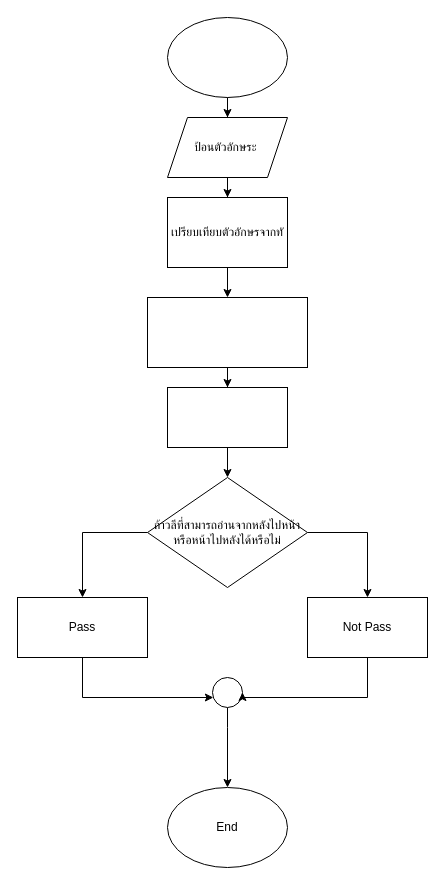
Image size: 445x885. Some labels were removed from this diagram. The shapes that lost their labels are listed below. From the top down, each one's box as (x1, y1, x2, y2) in pixels, then its label:
(166, 16, 288, 98): Start
(146, 296, 308, 368): เปรียบเทียบตัวอักษรโดยไม่สนใจตัวพิมพ์เล็ก-ใหญ่
(166, 386, 288, 448): แสดงผล
